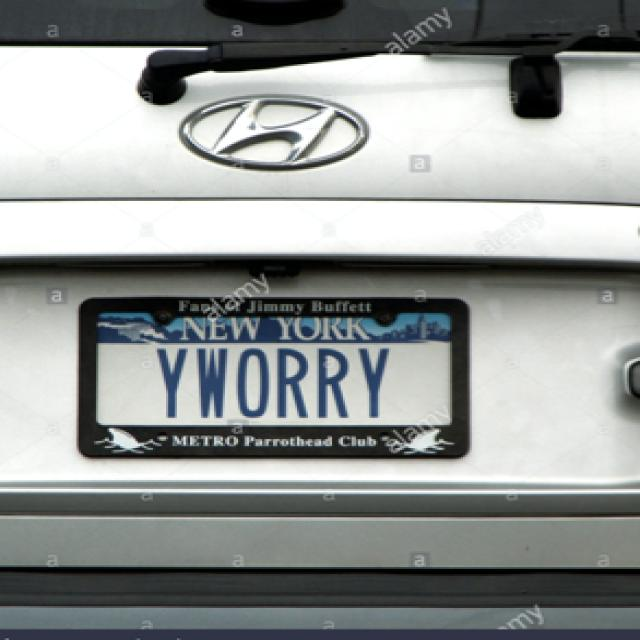license_plate: (98, 313, 452, 425)
